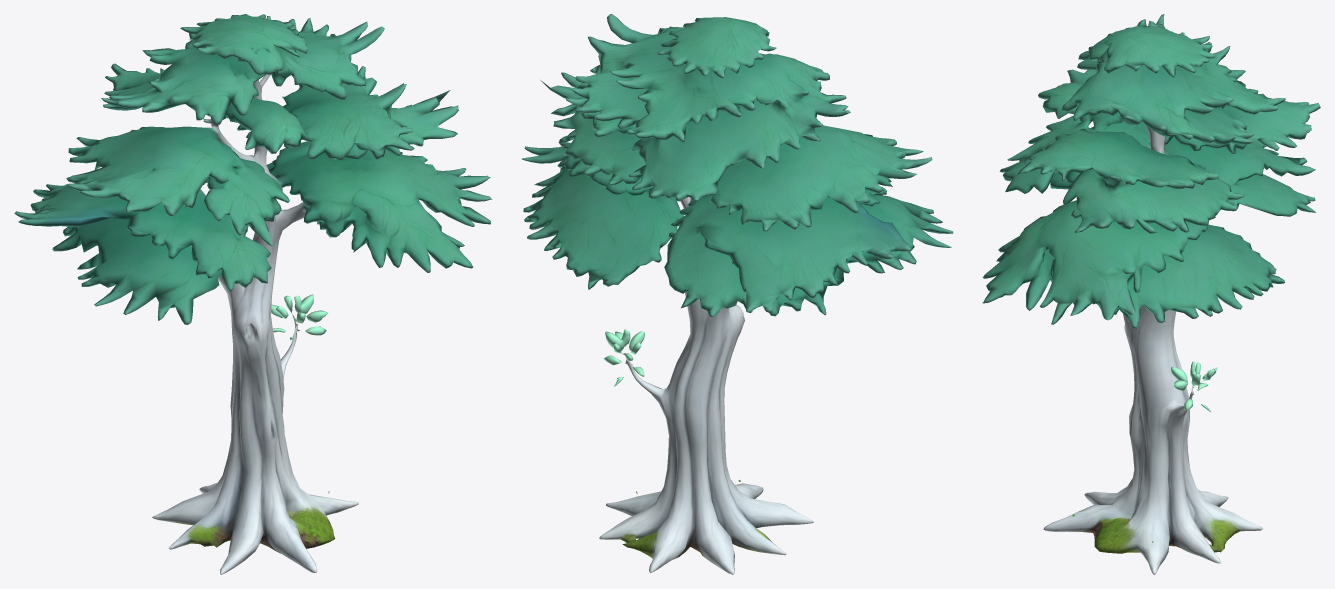
File: cypress.glb
3 renders of one model, left to right at view 1: azimuth 30°, elevation 25°; view 2: azimuth 150°, elevation 25°; view 3: azimuth 270°, elevation 25°, orthographic. The views are drawn at different scales.
Visible parts, largest first — view 1: model; view 2: model; view 3: model.
Boxes of the visible parts, <box> form: model: <box>14,14,492,574</box>; model: <box>522,14,953,574</box>; model: <box>982,14,1320,574</box>.
Bounding box in the file's own units: 1.67 × 1.89 × 1.19.
Materials: 1 (1 with a texture image).
